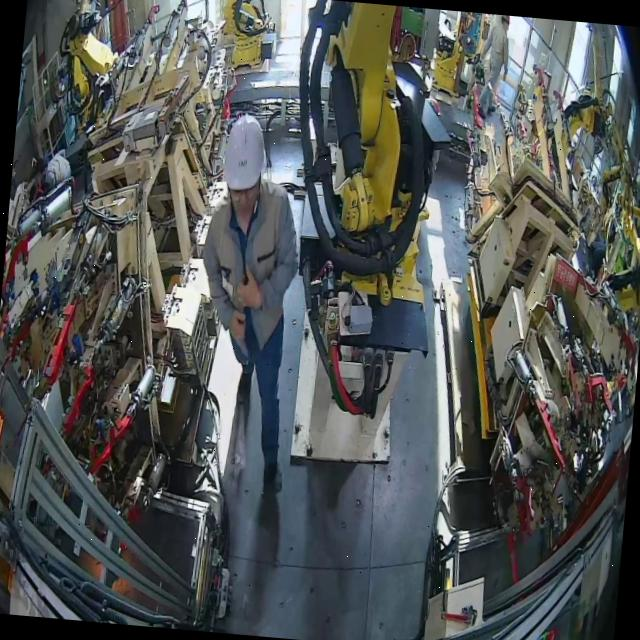Person: (182, 110, 314, 496), (474, 13, 512, 120)
